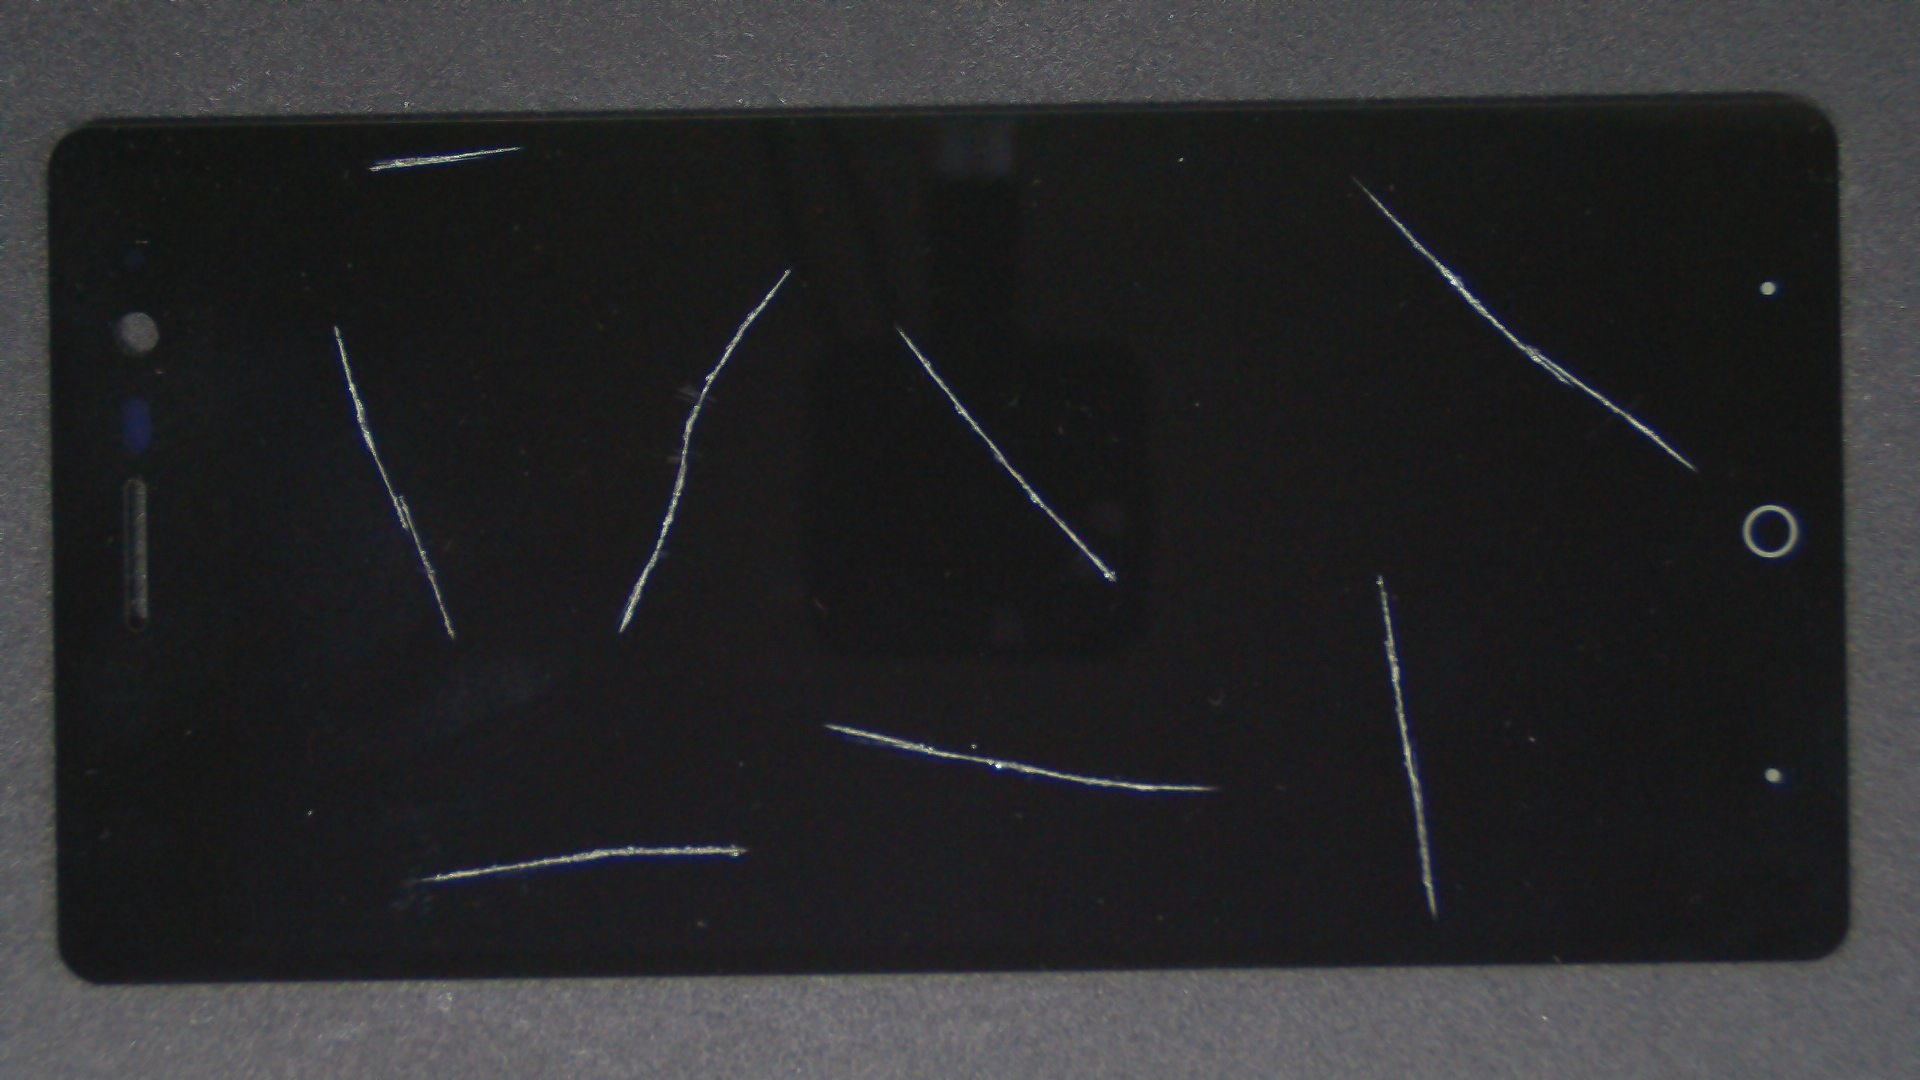oil: (691, 286, 1920, 860), (415, 360, 1246, 1080), (367, 419, 1097, 1080), (447, 164, 1342, 491), (676, 87, 1920, 262), (394, 133, 1180, 402), (167, 161, 501, 487), (256, 73, 765, 219)
